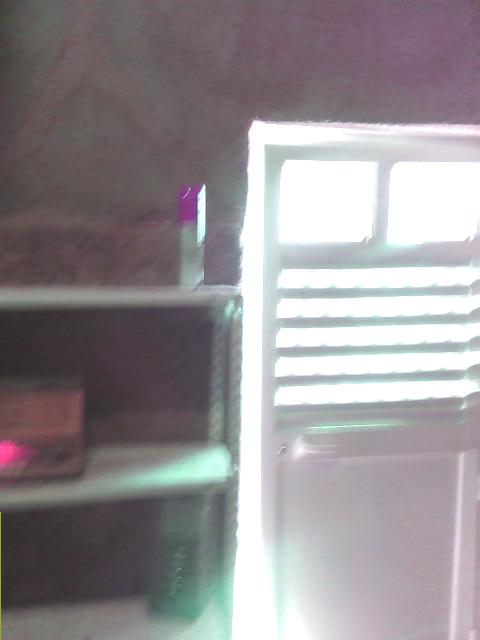closed_door: (231, 125, 472, 639)
